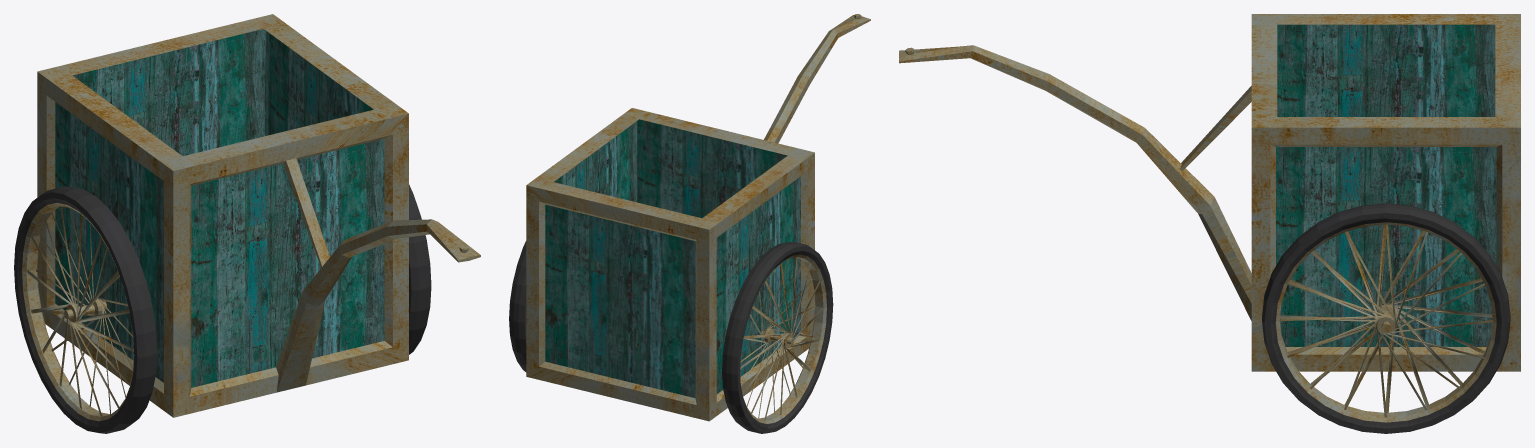
File: wozek.fbx
3 views of the same model, side by side, from view 1: azimuth 30°, elevation 25°; view 2: azimuth 150°, elevation 25°; view 3: azimuth 270°, elevation 25° (orthographic). The views are drawn at different scales.
Parts seen in each view (by area): view 1: wozek_skladak, Rower_Składak_Koło_Przednie.002, Rower_Składak_Koło_Przednie.001; view 2: wozek_skladak, Rower_Składak_Koło_Przednie.002, Rower_Składak_Koło_Przednie.001; view 3: wozek_skladak, Rower_Składak_Koło_Przednie.001.
Part boxes in pixels (left/top/right/bottom): wozek_skladak: left=37, top=14, right=480, bottom=417; Rower_Składak_Koło_Przednie.002: left=14, top=186, right=157, bottom=433; Rower_Składak_Koło_Przednie.001: left=409, top=184, right=431, bottom=354; wozek_skladak: left=526, top=14, right=870, bottom=421; Rower_Składak_Koło_Przednie.002: left=722, top=241, right=833, bottom=433; Rower_Składak_Koło_Przednie.001: left=509, top=241, right=526, bottom=372; wozek_skladak: left=899, top=14, right=1520, bottom=371; Rower_Składak_Koło_Przednie.001: left=1262, top=203, right=1510, bottom=433.
Bounding box in the file's own units: 77.3 × 76.54 × 135.
